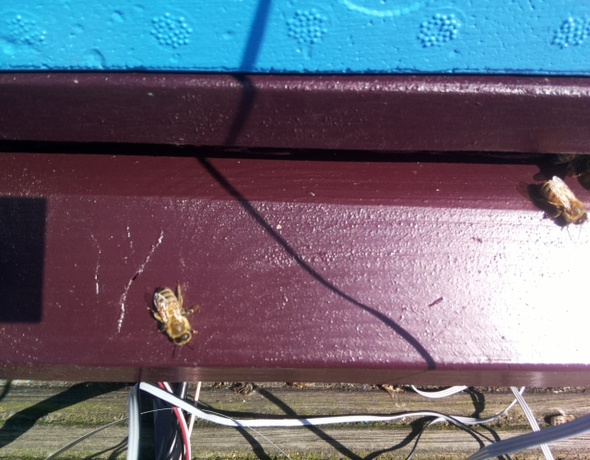no_pollen: (539, 175, 590, 229)
pollen: (145, 281, 201, 352)
